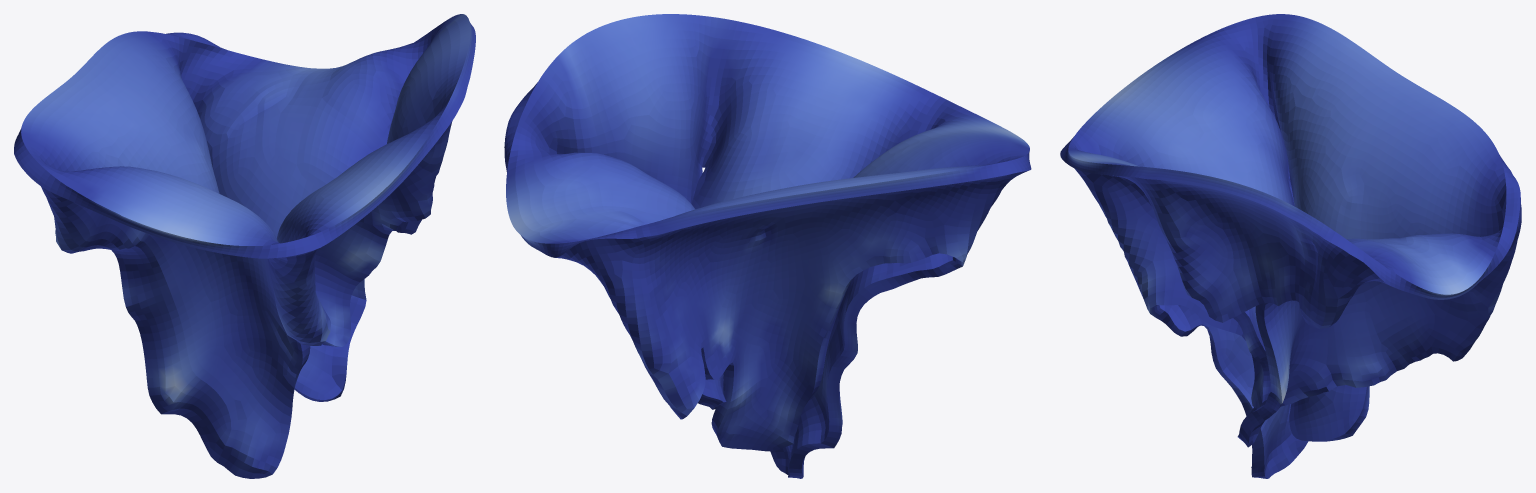
3 views of the same model, side by side, from view 1: azimuth 30°, elevation 25°; view 2: azimuth 150°, elevation 25°; view 3: azimuth 270°, elevation 25° (orthographic). The views are drawn at different scales.
Parts seen in each view (by area): view 1: OCS14_maxS_10; view 2: OCS14_maxS_10; view 3: OCS14_maxS_10.
Part boxes in pixels (box(x1,y1,x2,y2)): OCS14_maxS_10: box(14, 14, 475, 478); OCS14_maxS_10: box(504, 14, 1031, 478); OCS14_maxS_10: box(1060, 14, 1521, 478).
Bounding box in the file's own units: 1.45 × 1.19 × 1.29.
